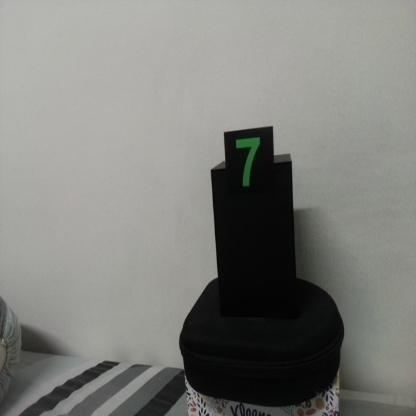id_7: (225, 132, 274, 202)
